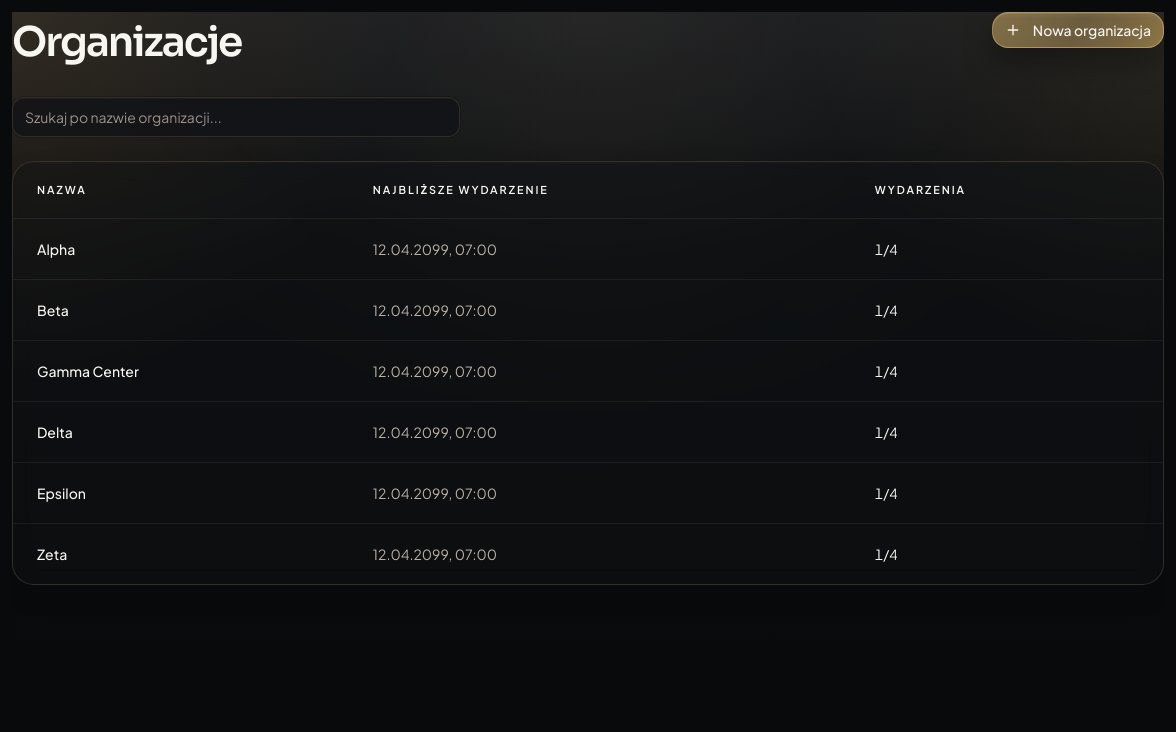
Organizations page › filters organizations by name in the table
Type "Gamma" into the field named "Szukaj organizacji".
click(236, 117); type("Gamma")  # box [12,97,460,137]
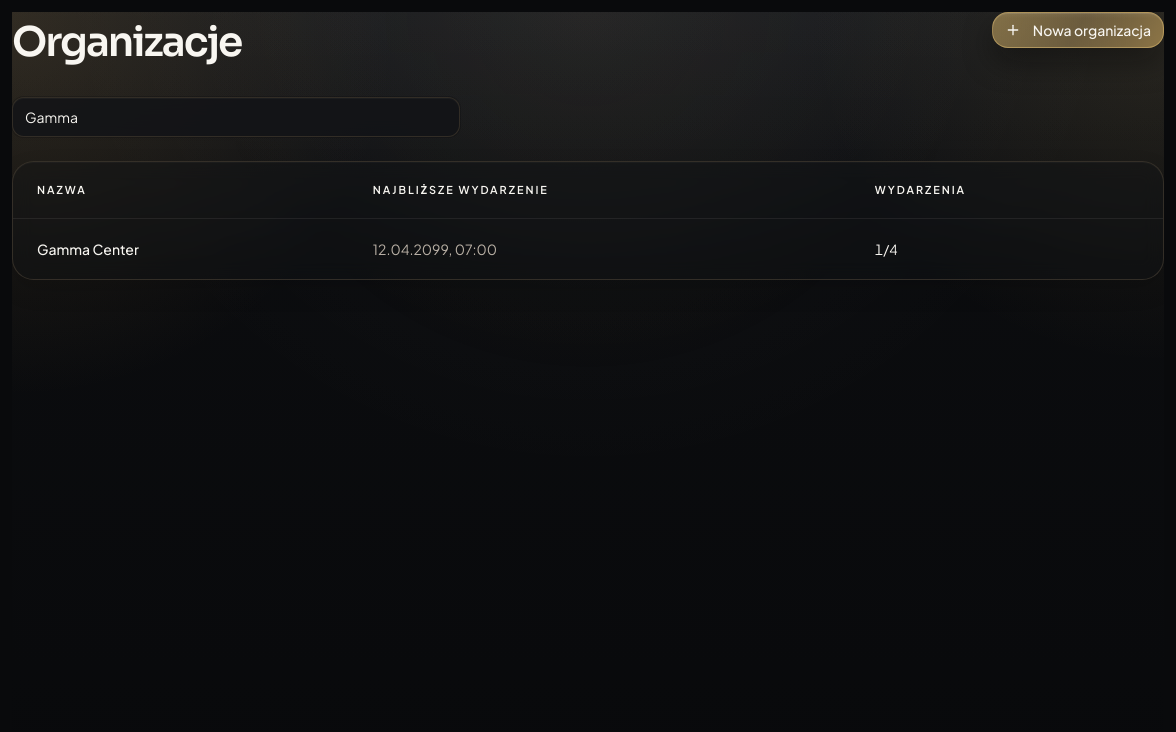
expect the text "Gamma Center" is shown: met, box [37,240,139,258]
expect the text "Alpha" is gone: met
